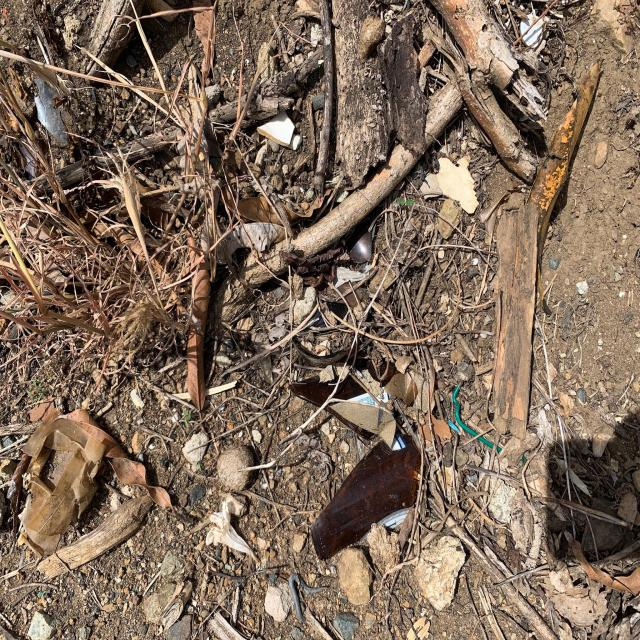litter: (282, 378, 448, 588)
